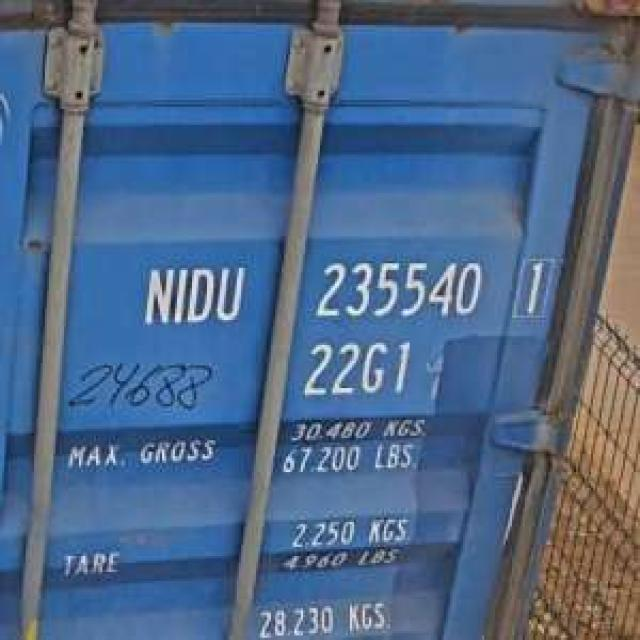dv: (514, 252, 553, 320)
owner: (138, 259, 248, 329)
serial: (308, 252, 487, 324)
size: (299, 334, 414, 402)
